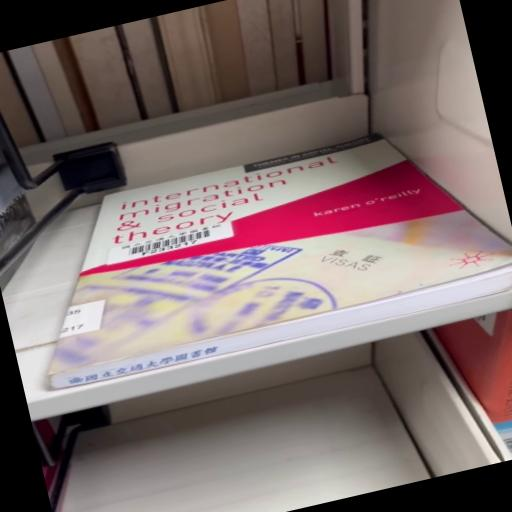flat: (48, 135, 512, 390)
